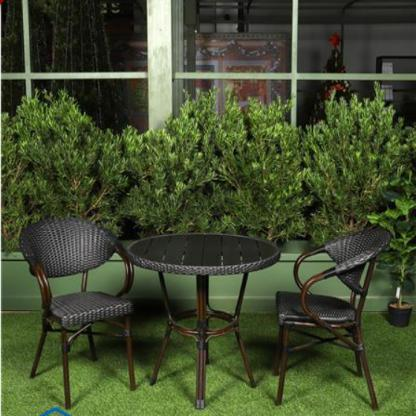table: (121, 229, 285, 415)
